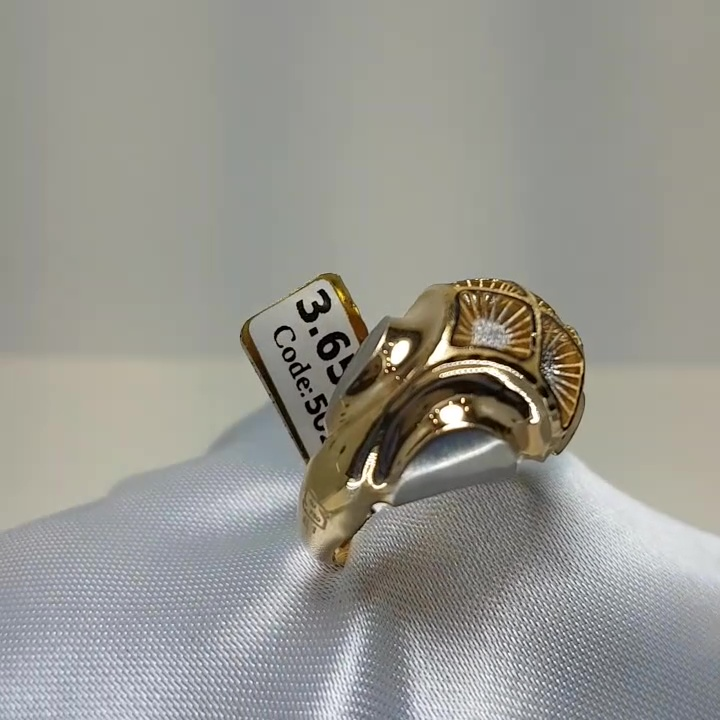Ring 2: (266, 255, 621, 599)
